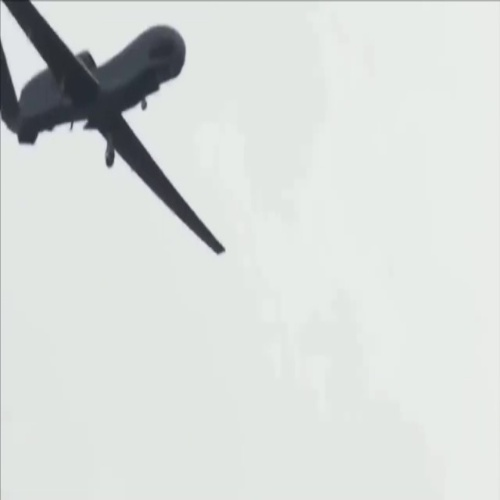uav: (1, 1, 229, 257)
